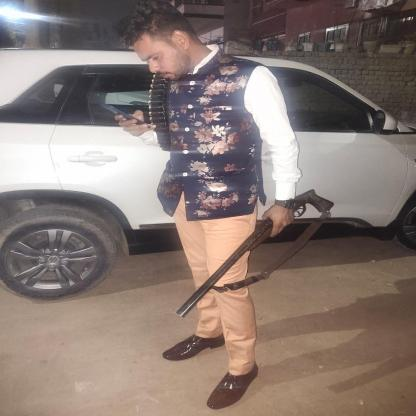rifle: (174, 187, 336, 319)
